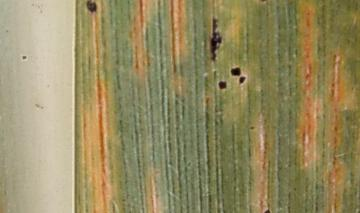tarspot: (210, 16, 221, 61), (87, 1, 97, 15), (218, 80, 227, 90), (232, 67, 242, 75), (238, 74, 246, 84), (263, 208, 272, 213)
